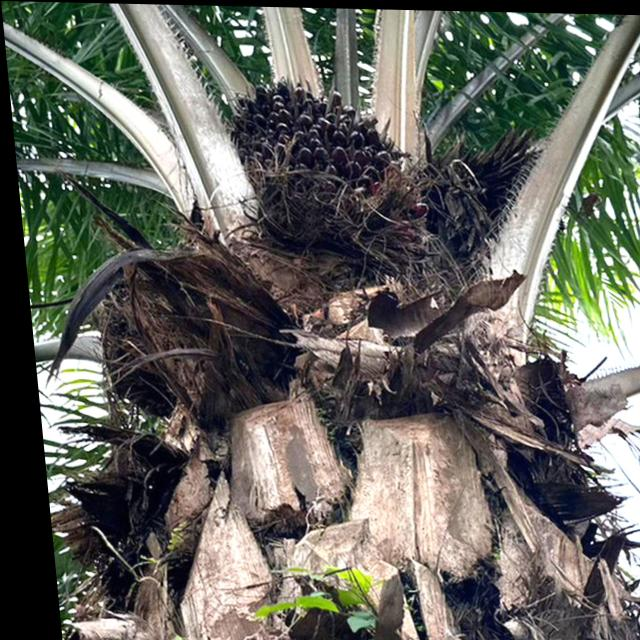almost: (218, 74, 435, 299)
